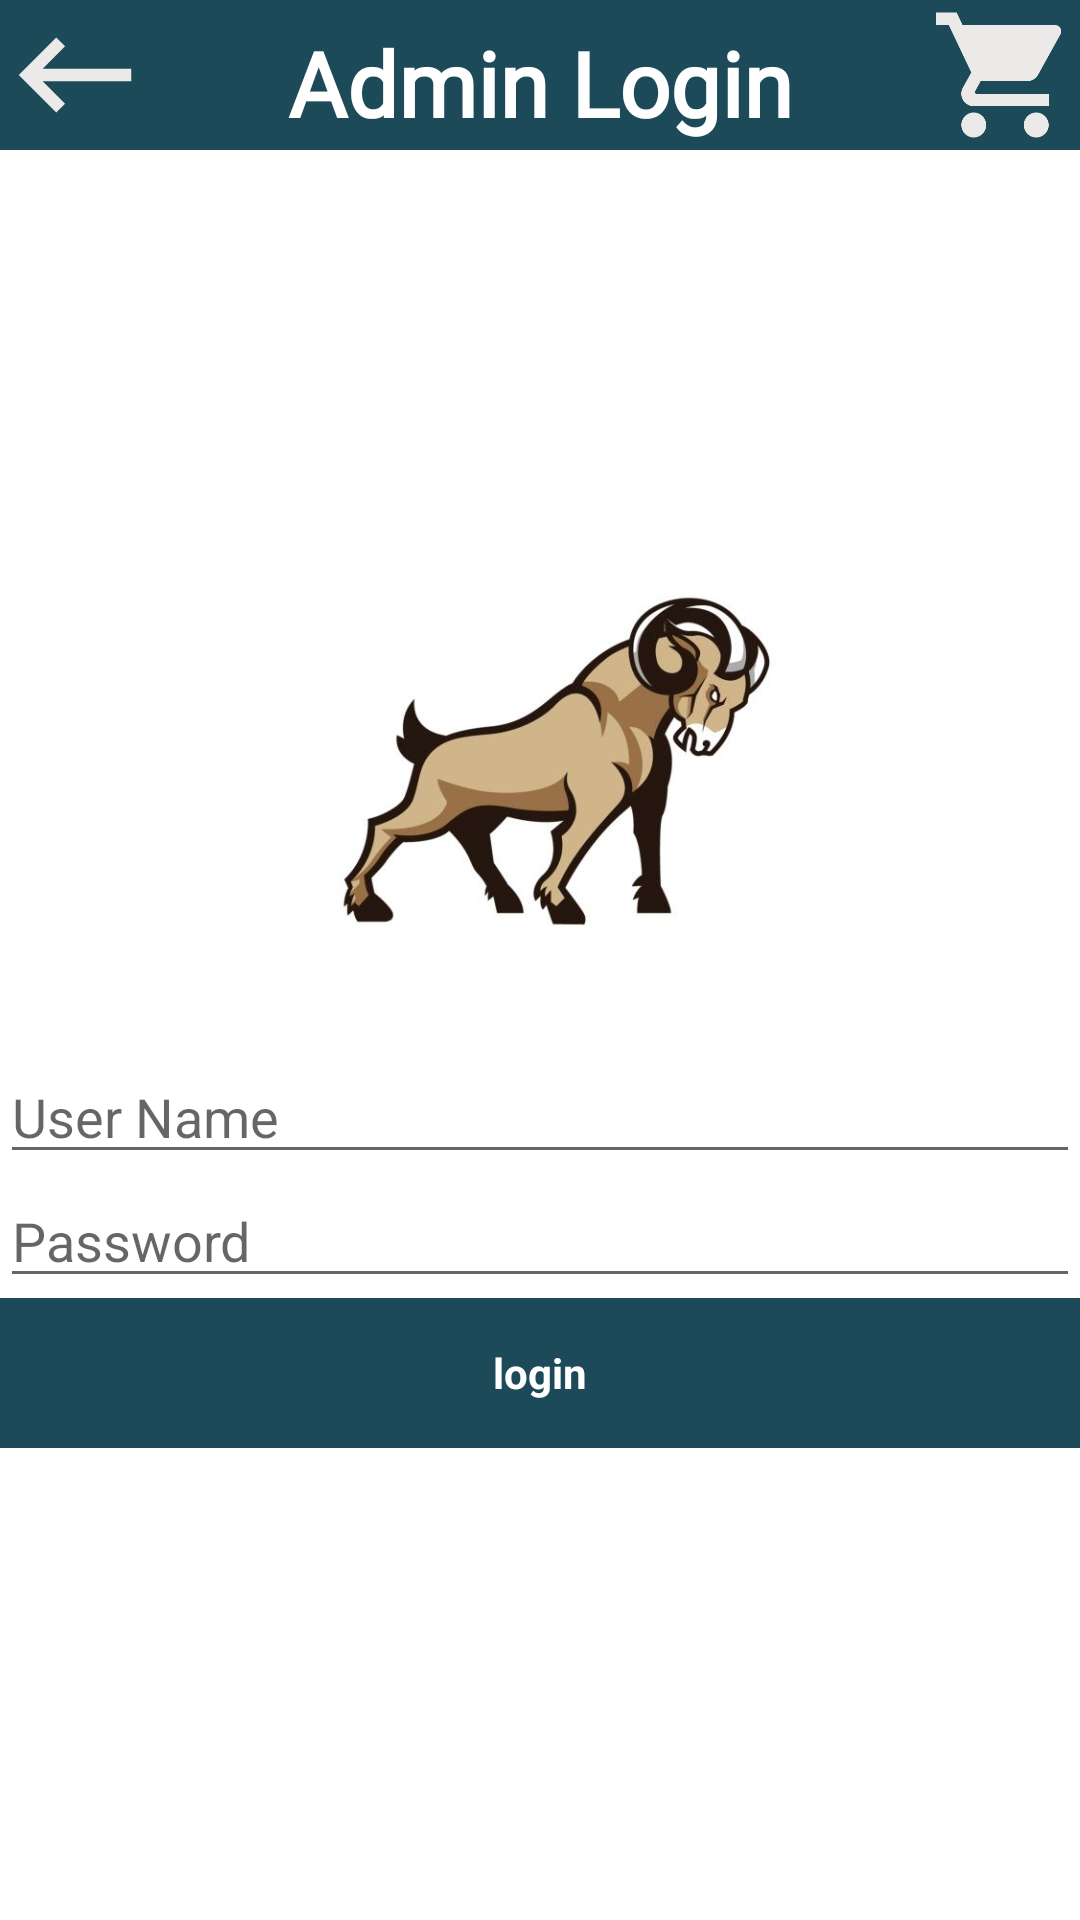

Screen size 1080 x 1920. Icon name, then its box in pixels as BBox(x1, y1, x2, y2):
keyboard backspace: BBox(19, 37, 132, 113)
shopping cart: BBox(936, 12, 1061, 138)
